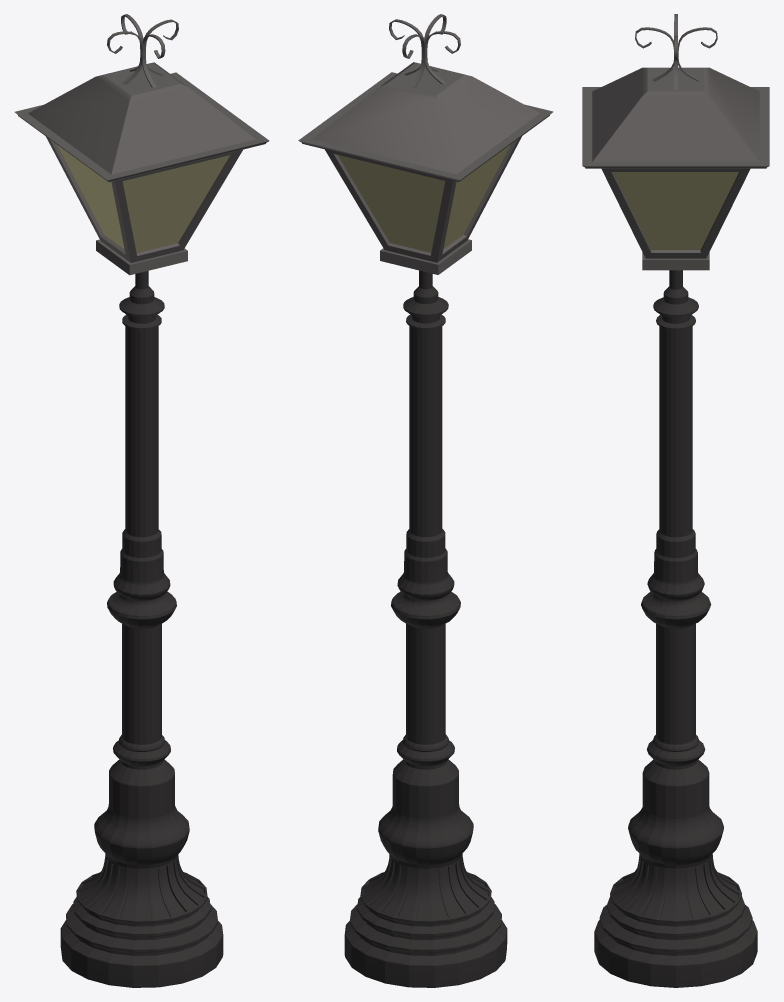
File: Lampadaire_Unity1.fbx
3 views of the same model, side by side, from view 1: azimuth 30°, elevation 25°; view 2: azimuth 150°, elevation 25°; view 3: azimuth 270°, elevation 25° (orthographic).
Visible parts, largest first — view 1: polySurface3, polySurface4; view 2: polySurface3, polySurface4; view 3: polySurface3, polySurface4.
Boxes of the visible parts, bbox=[...] form: polySurface3: bbox=[60, 271, 223, 987]; polySurface4: bbox=[14, 62, 269, 275]; polySurface3: bbox=[344, 270, 507, 987]; polySurface4: bbox=[298, 62, 553, 274]; polySurface3: bbox=[594, 270, 757, 987]; polySurface4: bbox=[582, 67, 769, 270].
Bounding box in the file's own units: 2.06 × 11.23 × 2.06.
